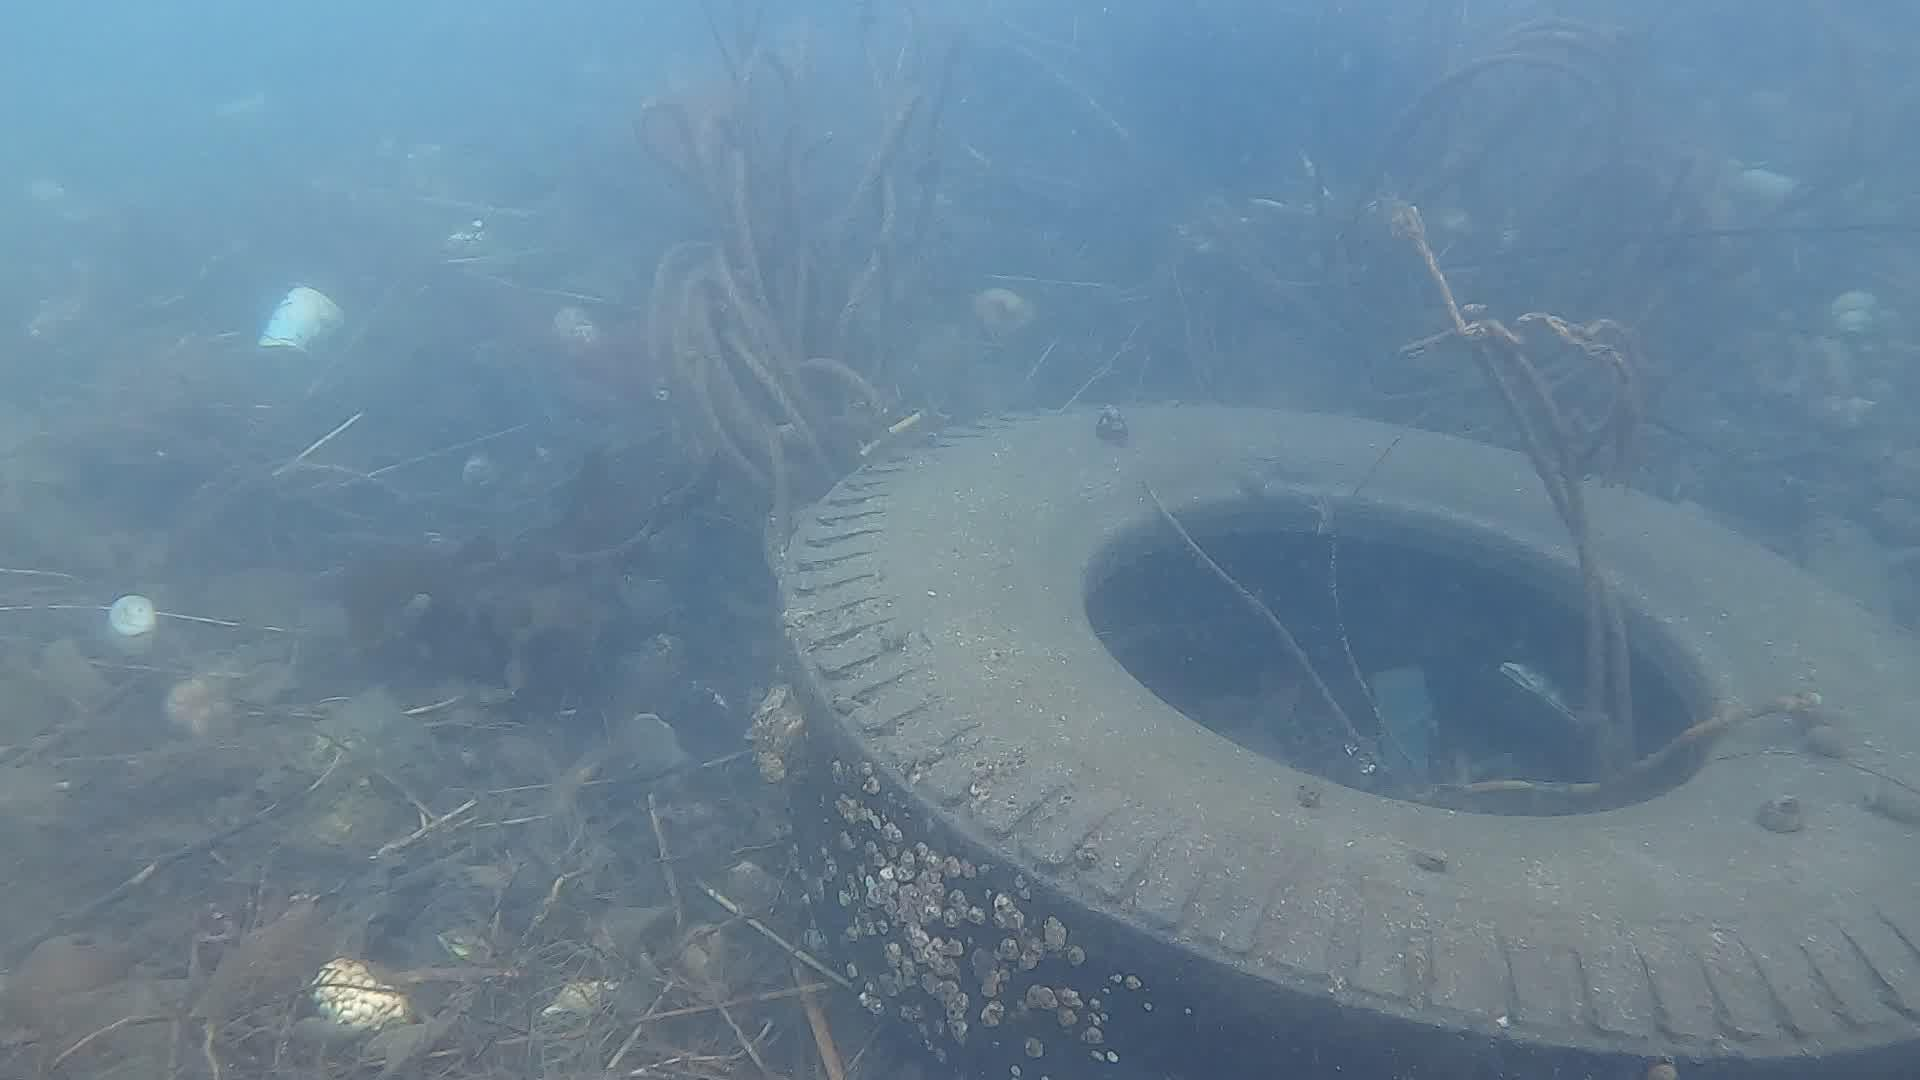bundle of ropes: (1394, 241, 1793, 796), (629, 0, 969, 487), (1352, 13, 1639, 225)
tire: (775, 397, 1920, 1080)
